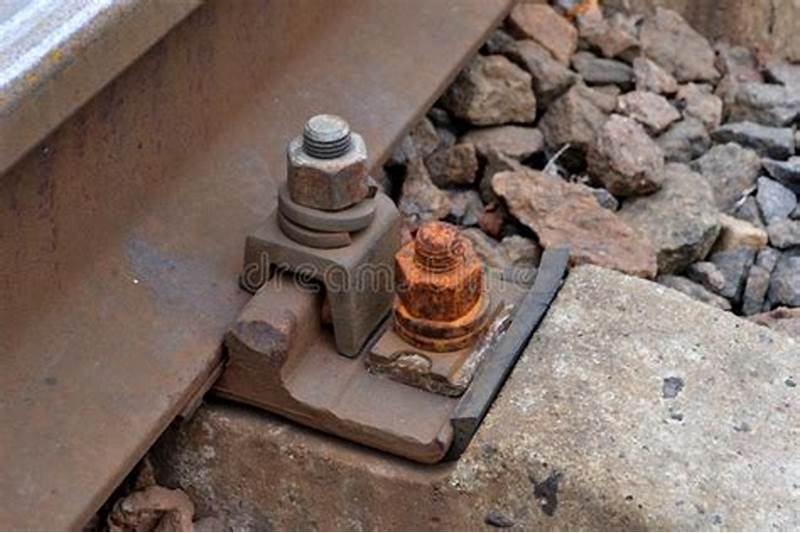bolt_b: (393, 228, 482, 323), (282, 122, 371, 212)
